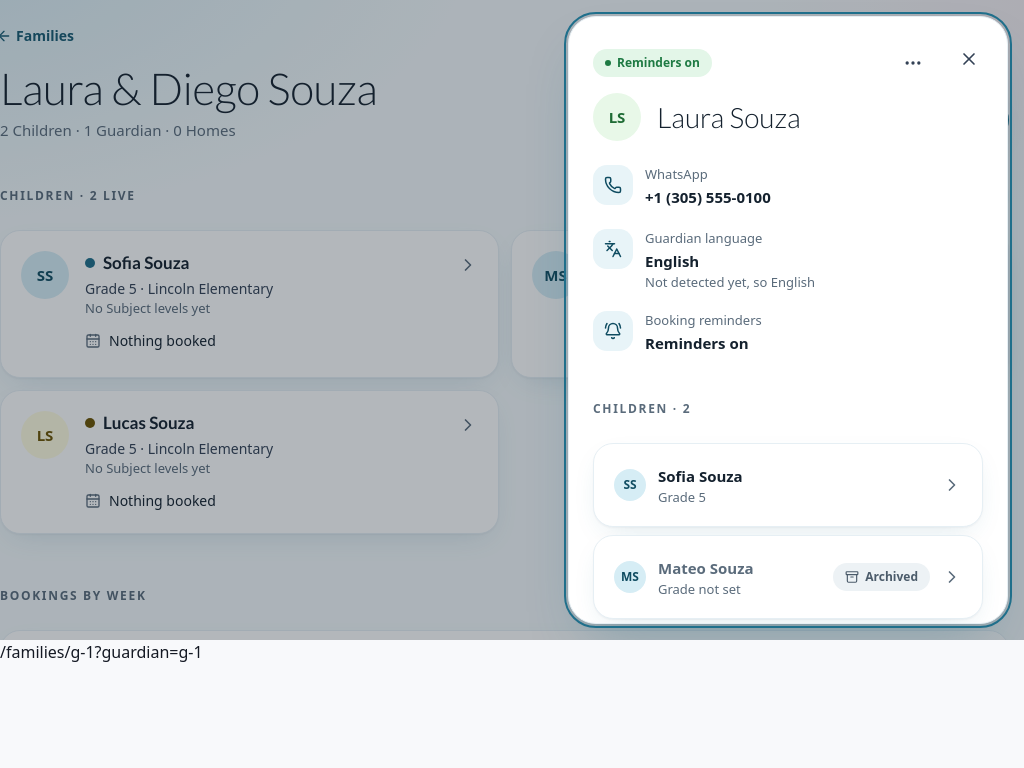
edit guardian › saves a changed name and number, then toasts
Click the button named "More actions". click: [913, 63]
box: [891,41,935,85]
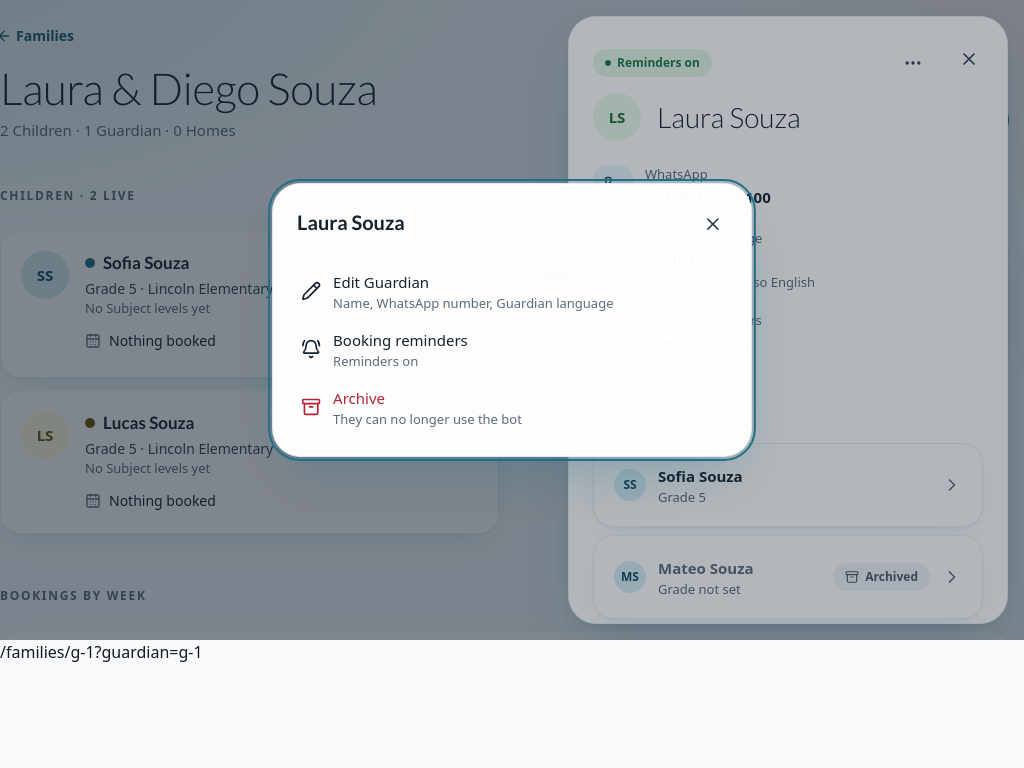
Click the button "Edit Guardian Name, WhatsApp number, Guardian language". click: [512, 291]
box: [289,262,735,320]
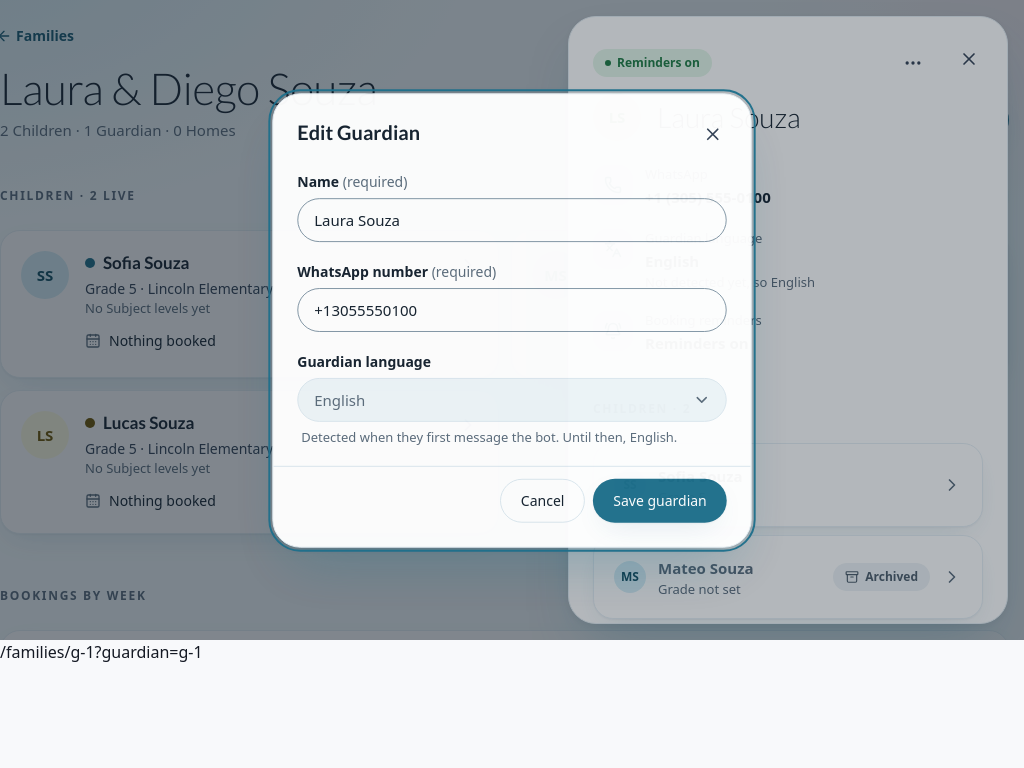
Now the dropdown named "Guardian language" is disabled, box [297,378,727,422]
Replace the text in the field labelled "Name (required)" with "Laura Souza Lima". click: [512, 220]
box: [297,198,727,242]
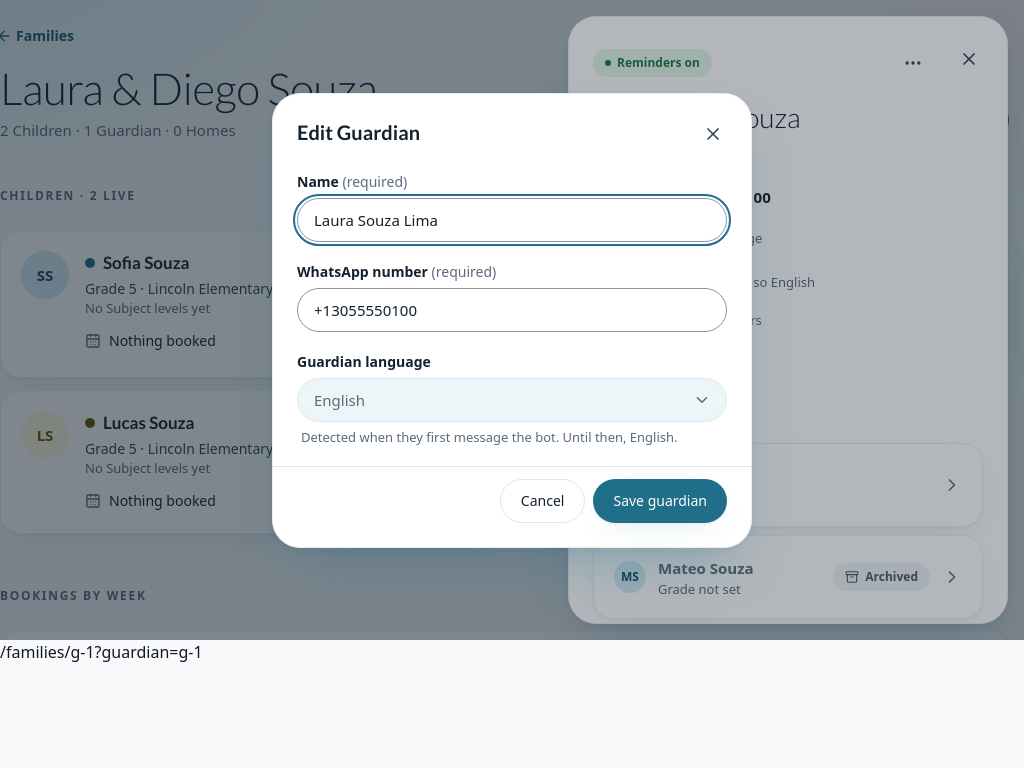
Replace the text in the field labelled "WhatsApp number (required)" with "+13055550199". click: [512, 310]
box: [297,288,727,332]
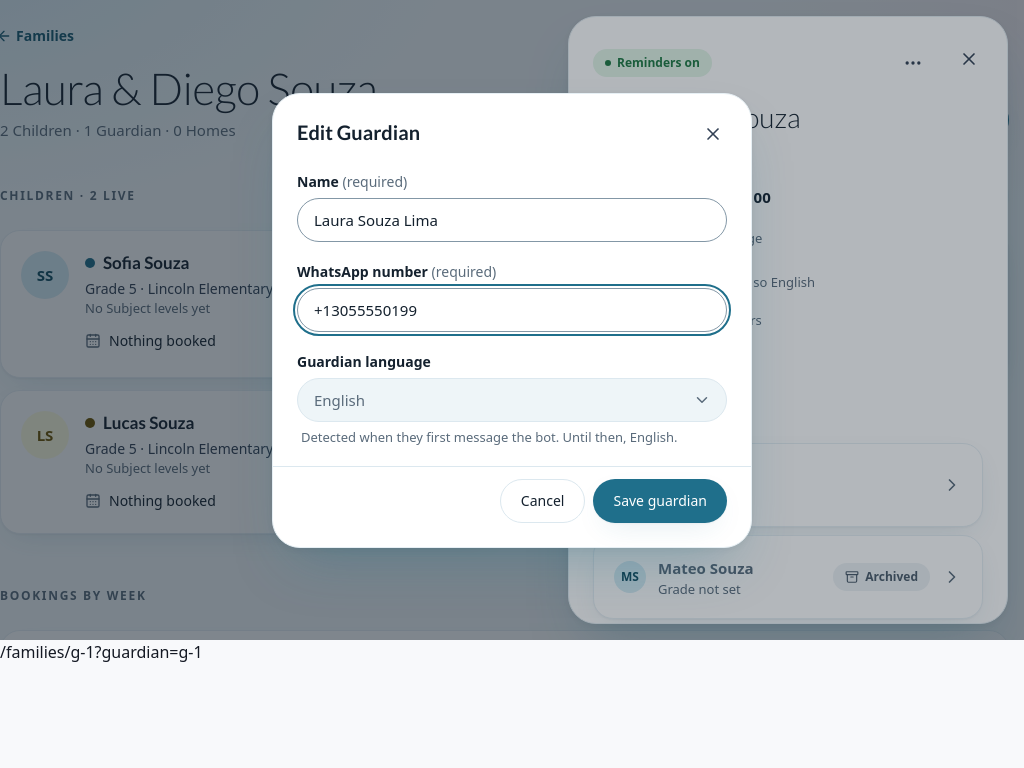
Click the button "Save guardian". click: [660, 500]
box: [594,478,727,522]
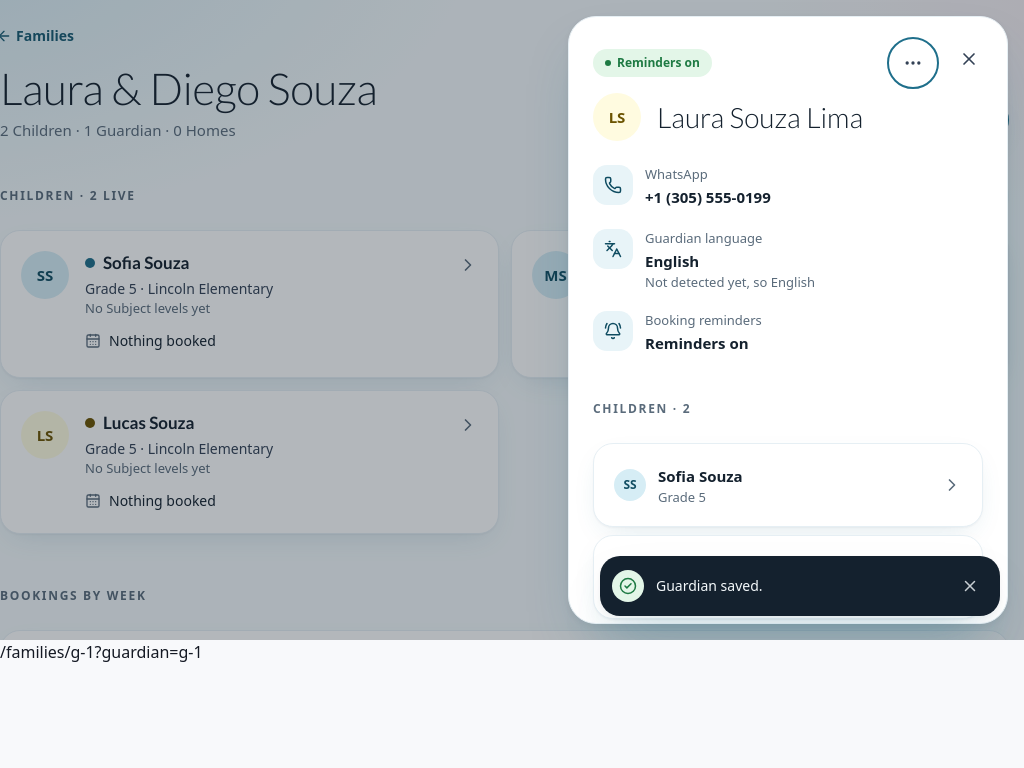
Now the dialog "Laura Souza Lima" is shown, box [568,16,1008,624]
